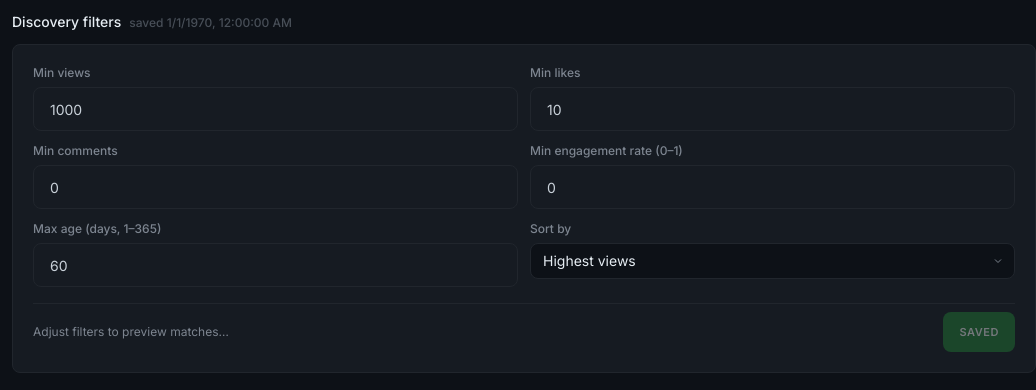
DiscoveryFilterPanel › sends the current draft to api.discoveryFilter.save on click
Replace the text in the number field with test id "filter-min-views" with "2500" at (276, 109), box [33,87,518,131]
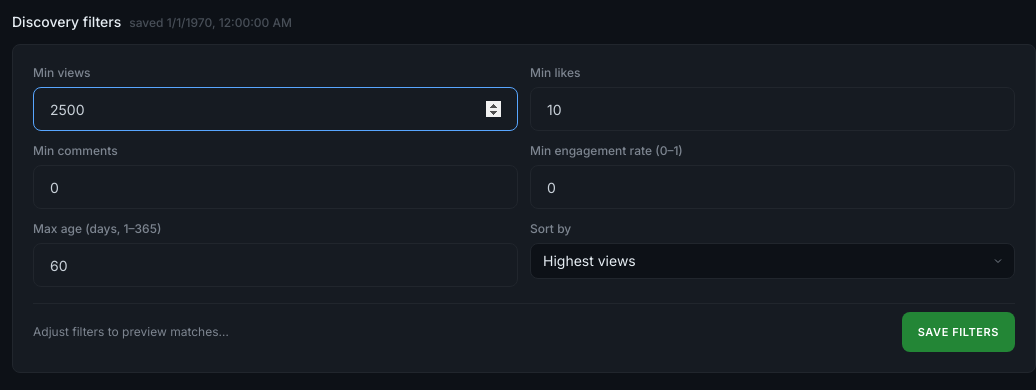
Click the button with test id "filter-save" at (958, 332), box [902,312,1015,352]
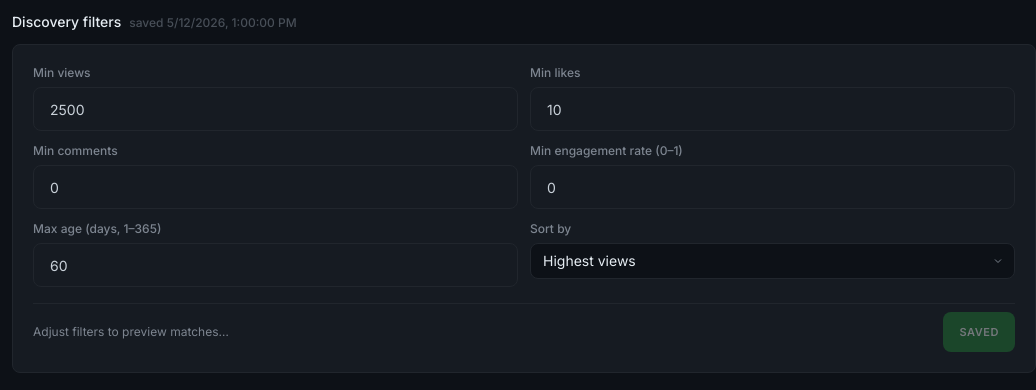
Now the button with test id "filter-save" is disabled, box [943,312,1015,352]
